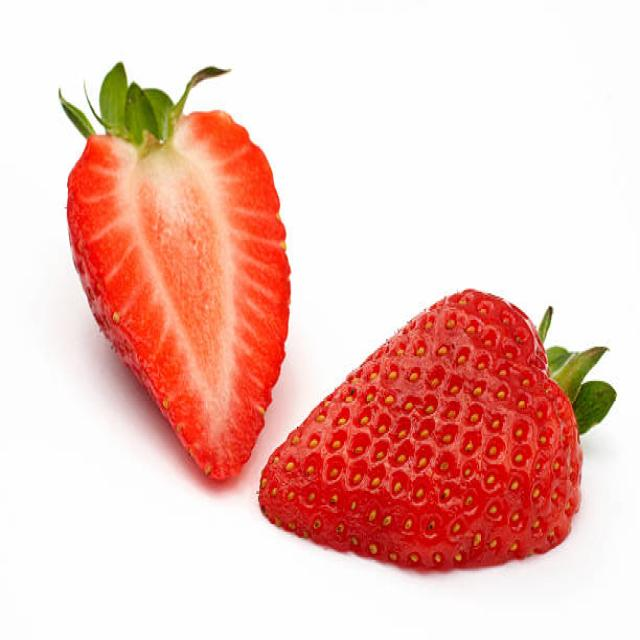Healthy Fruit: (260, 290, 582, 570), (65, 108, 291, 481)
